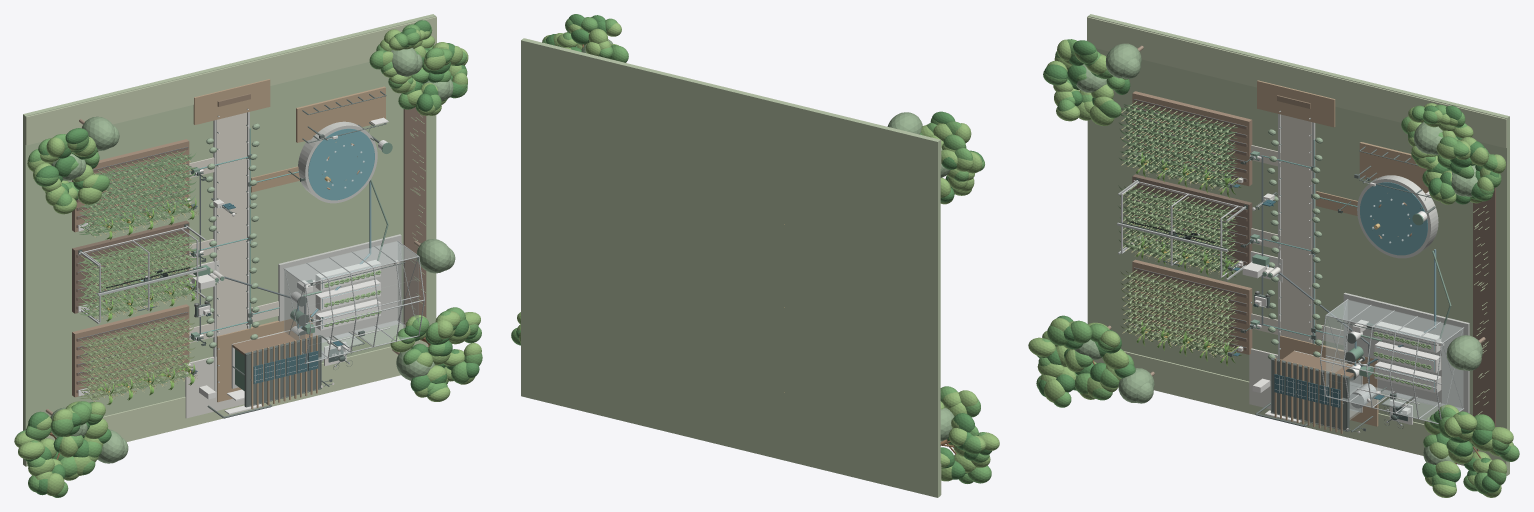
Rendered from trusted-garden-v0.8-model.glb.
The picture shows the model from 3 angles, left to right: view 1: azimuth 30°, elevation 25°; view 2: azimuth 150°, elevation 25°; view 3: azimuth 330°, elevation 25°; orthographic projection. The views are drawn at different scales.
Parts seen in each view (by area): view 1: Site_Base, North_Meadow, Visitor_Spine, Aqua_Pad, South_Meadow, Plot_B_Corn_Leaves, Plot_C_Corn_Leaves, Plot_A_Corn_Leaves, Bioswale_Bed, Pond_Water, Plot_C_Soil, Pond_View_Deck (+29 smaller); view 2: Site_Base, TreeCrown_1; view 3: Site_Base, North_Meadow, Visitor_Spine, South_Meadow, Aqua_Pad, Plot_A_Corn_Leaves, Plot_C_Corn_Leaves, Plot_B_Corn_Leaves, Bioswale_Bed, Plot_C_Soil, Pond_Water, Plot_A_Soil (+28 smaller).
Boxes of the visible parts, x1=… form: Site_Base: x1=23, y1=14, x2=436, y2=466; North_Meadow: x1=25, y1=16, x2=436, y2=145; Visitor_Spine: x1=216, y1=112, x2=246, y2=335; Aqua_Pad: x1=278, y1=234, x2=401, y2=342; South_Meadow: x1=25, y1=340, x2=428, y2=466; Plot_B_Corn_Leaves: x1=78, y1=231, x2=197, y2=316; Plot_C_Corn_Leaves: x1=78, y1=317, x2=195, y2=399; Plot_A_Corn_Leaves: x1=79, y1=150, x2=196, y2=235; Bioswale_Bed: x1=403, y1=107, x2=426, y2=327; Pond_Water: x1=308, y1=128, x2=374, y2=200; Plot_C_Soil: x1=72, y1=304, x2=189, y2=397; Pond_View_Deck: x1=296, y1=86, x2=385, y2=142; Site_Base: x1=521, y1=38, x2=940, y2=497; TreeCrown_1: x1=887, y1=112, x2=922, y2=134; Site_Base: x1=1087, y1=14, x2=1509, y2=475; North_Meadow: x1=1087, y1=17, x2=1506, y2=148; Visitor_Spine: x1=1281, y1=114, x2=1311, y2=342; South_Meadow: x1=1093, y1=351, x2=1506, y2=475; Aqua_Pad: x1=1343, y1=292, x2=1469, y2=413; Plot_A_Corn_Leaves: x1=1118, y1=104, x2=1237, y2=188; Plot_C_Corn_Leaves: x1=1120, y1=271, x2=1238, y2=358; Plot_B_Corn_Leaves: x1=1118, y1=185, x2=1237, y2=271; Bioswale_Bed: x1=1473, y1=187, x2=1495, y2=426; Plot_C_Soil: x1=1132, y1=259, x2=1252, y2=354; Pond_Water: x1=1360, y1=182, x2=1427, y2=255; Plot_A_Soil: x1=1132, y1=91, x2=1252, y2=186.
Bounding box in the file's own units: 43.62 × 33.45 × 6.39.
